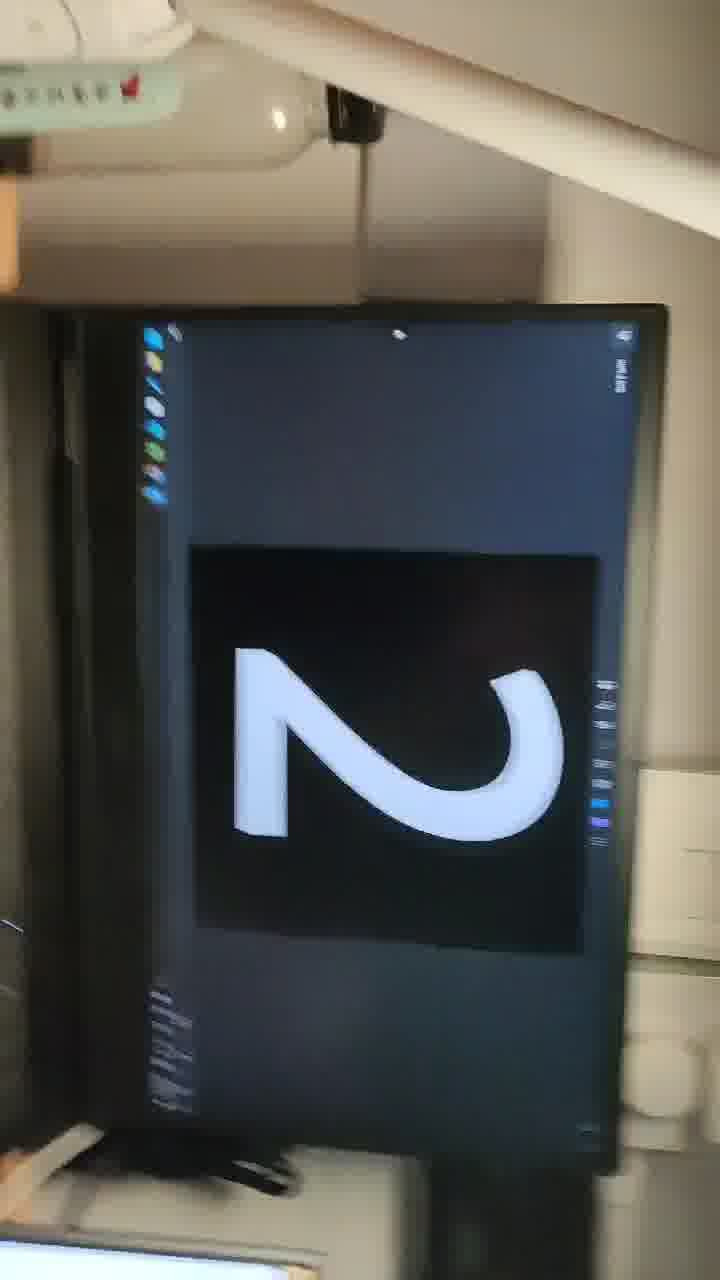two: (181, 568, 571, 944)
